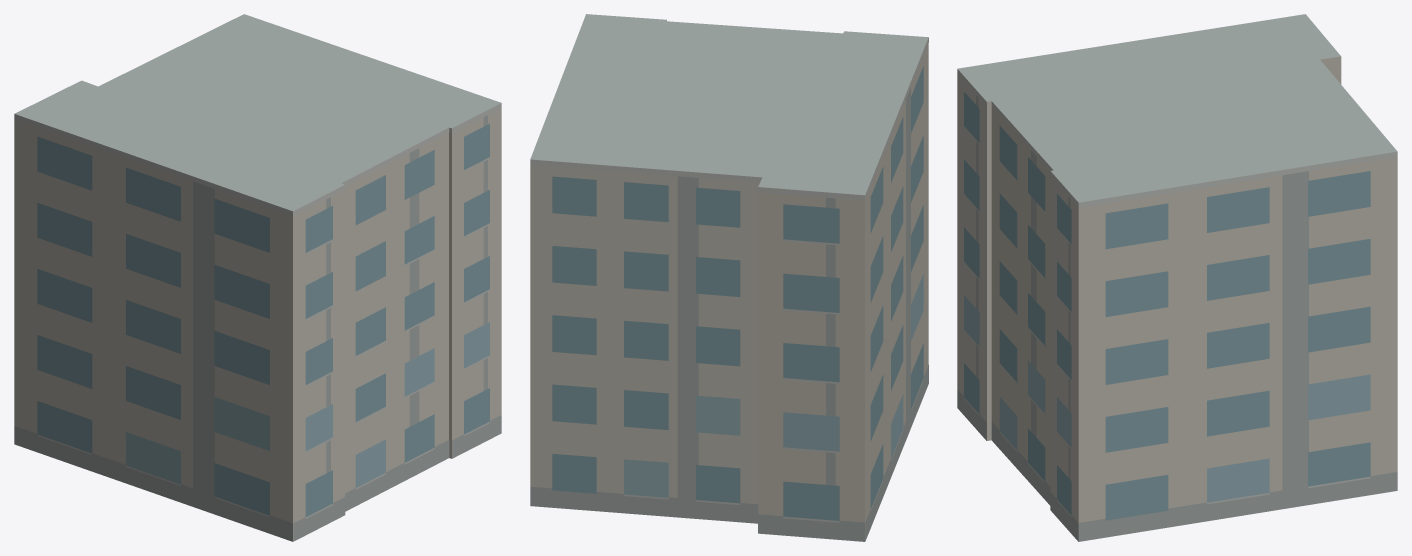
File: survey-upis-32890181.glb
3 renders of one model, left to right at view 1: azimuth 30°, elevation 25°; view 2: azimuth 150°, elevation 25°; view 3: azimuth 270°, elevation 25°, orthographic. The views are drawn at different scales.
Parts seen in each view (by area): view 1: survey-upis-32890181.tmp; view 2: survey-upis-32890181.tmp; view 3: survey-upis-32890181.tmp.
Boxes of the visible parts, bbox=[...] form: survey-upis-32890181.tmp: bbox=[14, 14, 501, 541]; survey-upis-32890181.tmp: bbox=[530, 14, 928, 541]; survey-upis-32890181.tmp: bbox=[957, 14, 1397, 541].
Bounding box in the file's own units: 18.8 × 15.75 × 18.54.
